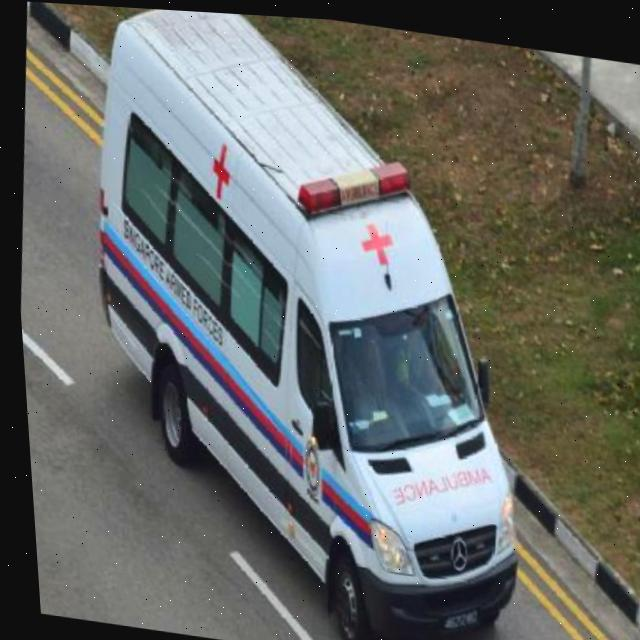emergency: (46, 2, 563, 640)
